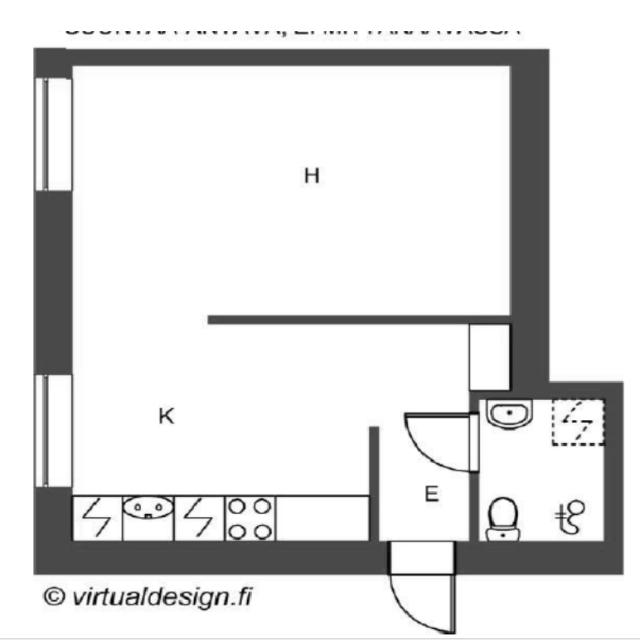door: (400, 410, 481, 474), (385, 570, 459, 634)
window: (28, 65, 82, 205), (29, 367, 80, 498)
zone: (69, 57, 533, 321), (74, 321, 376, 550), (472, 390, 614, 547), (378, 411, 475, 571)
